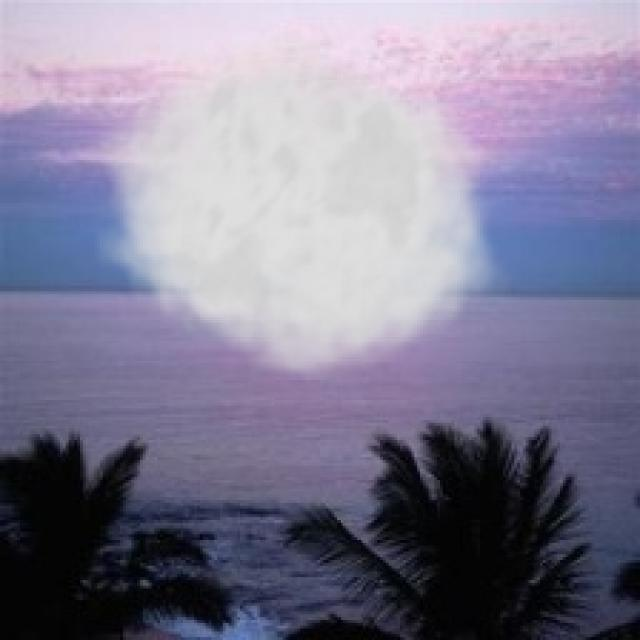smoke: (94, 20, 512, 389)
